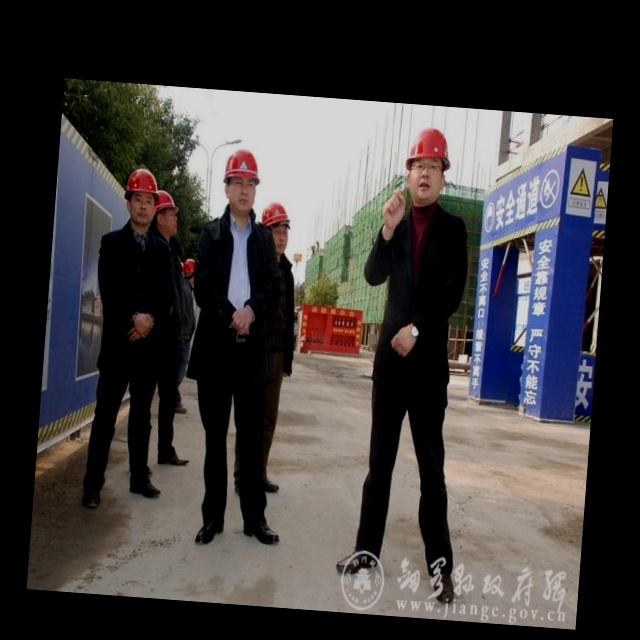Con_Casco: (400, 126, 455, 207), (220, 148, 263, 215), (122, 166, 159, 230)
